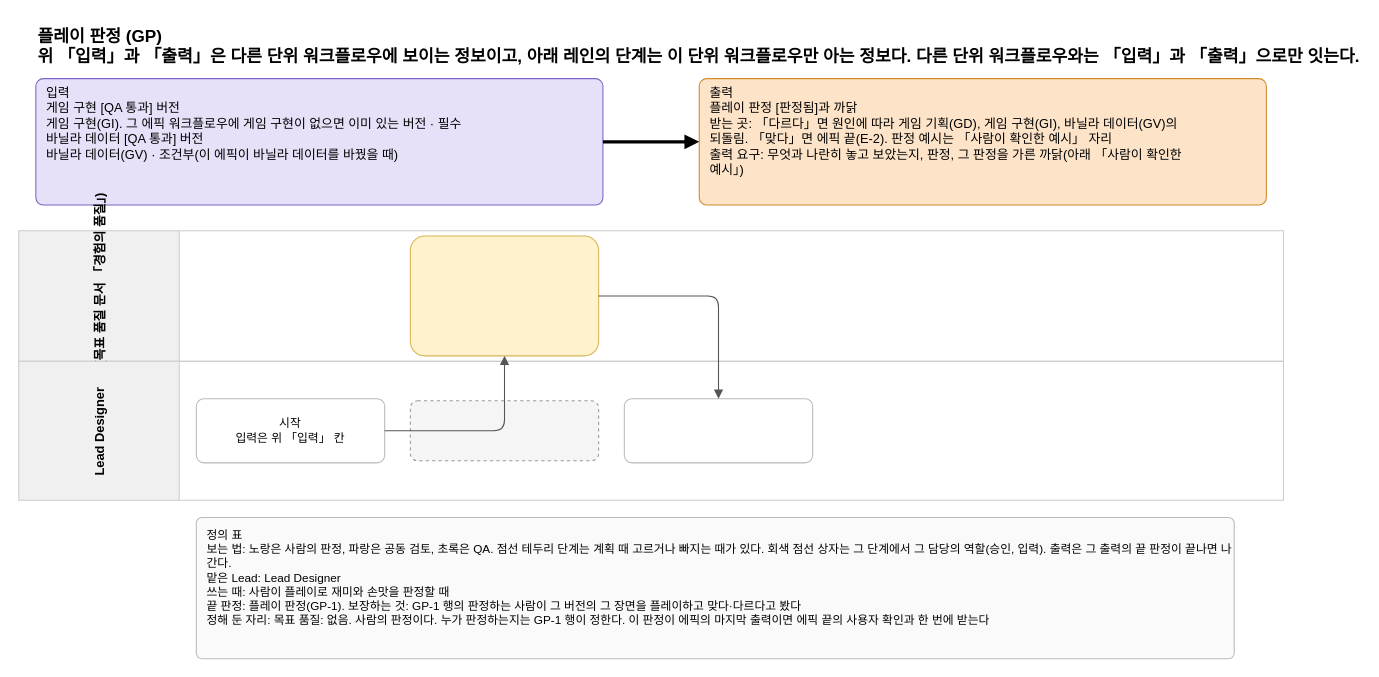
This 1379x677 diagram has some shape labels left out. Here are the shapes that lost their labels. From the top down, the box of each, then its label:
(409, 235, 599, 356): 사람이 플레이로 판정함 (GP-1) 넘김: 판정과 까닭 Quality.md 「경험의 품질」이 정한 판정자
(409, 400, 599, 461): 입력 · 볼 장면
(623, 398, 813, 463): 끝 출력은 위 「출력」 칸
